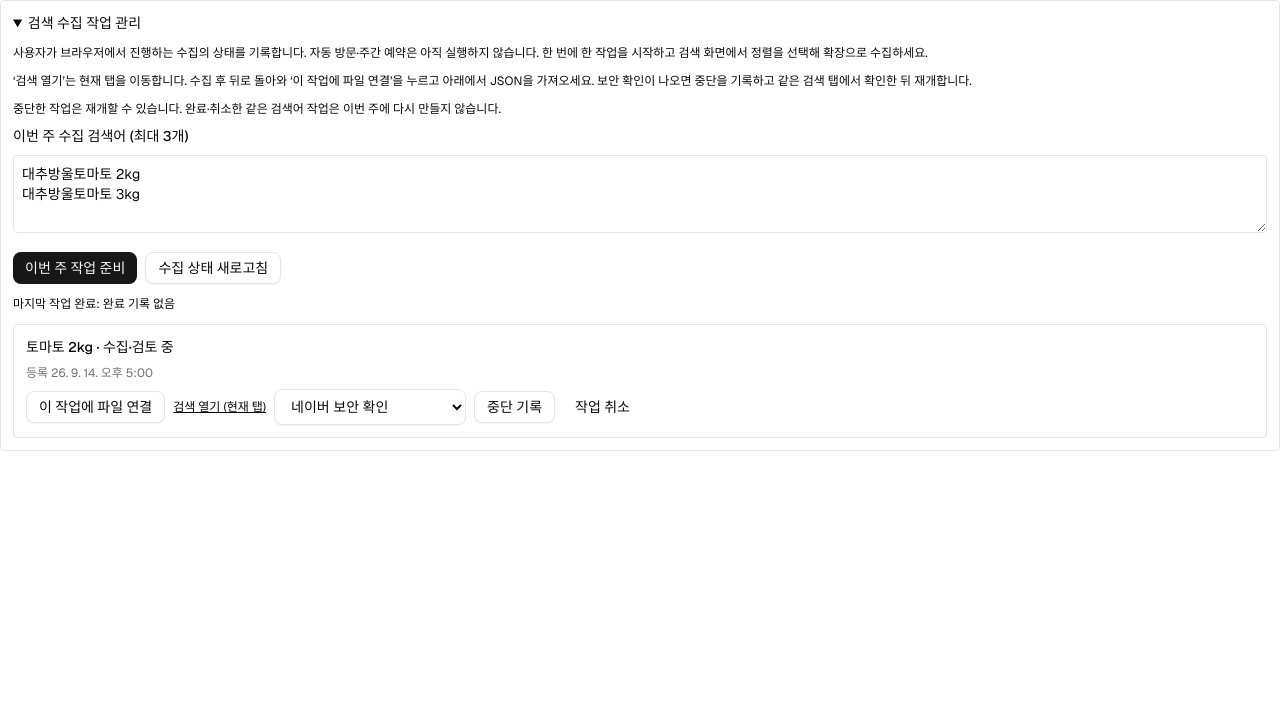
Test: records a concrete security stop and offers explicit resume, without reporting success
Click the button "중단 기록". click: (515, 407)
box: [474, 391, 555, 423]
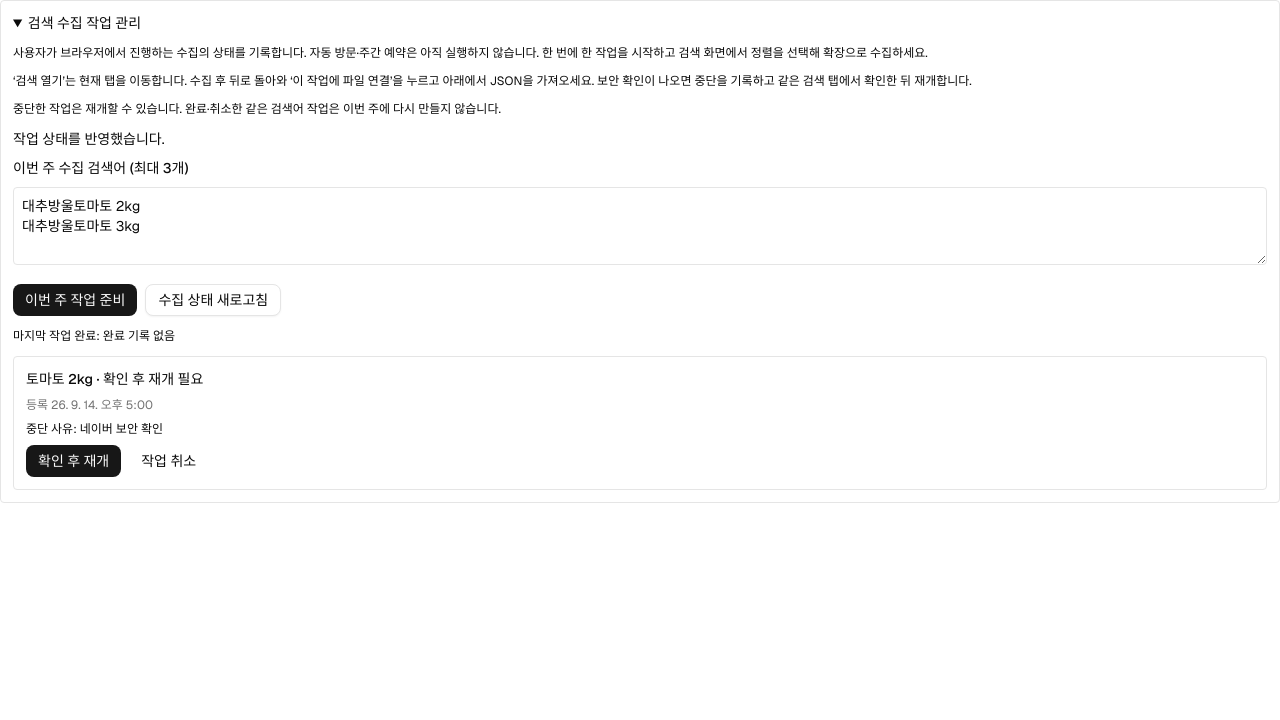
Expected: the text "마지막 작업 완료: 완료 기록 없음" is shown, [13, 328, 175, 344]
Result: the button "확인 후 재개" is shown at [26, 445, 121, 477]
Result: the text "중단 사유: 네이버 보안 확인" is shown at [26, 421, 163, 437]
